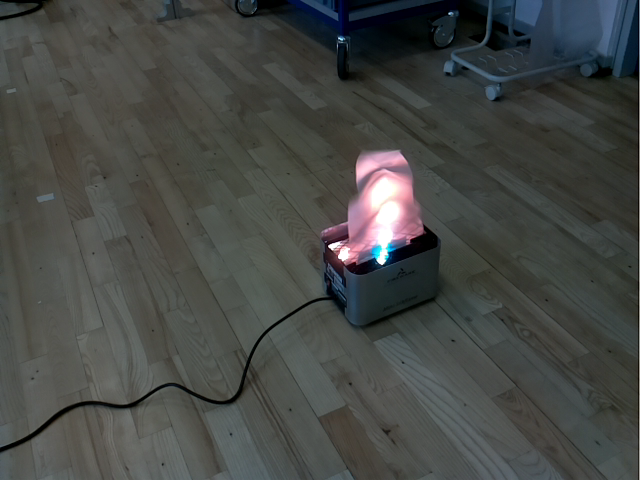fire: (336, 142, 427, 259)
